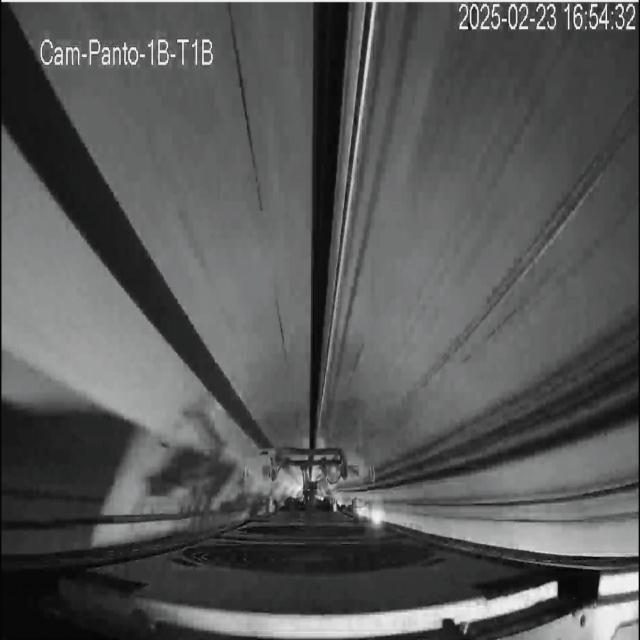Camera Stamp: (38, 33, 219, 68)
Date Stamp: (458, 3, 636, 33)
No - Spark: (261, 431, 344, 513)
